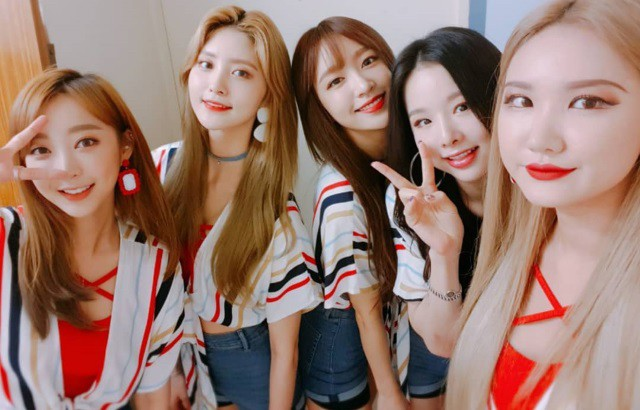people: (493, 7, 640, 404), (11, 69, 160, 410), (171, 4, 293, 407), (294, 18, 393, 410), (394, 26, 483, 410)
